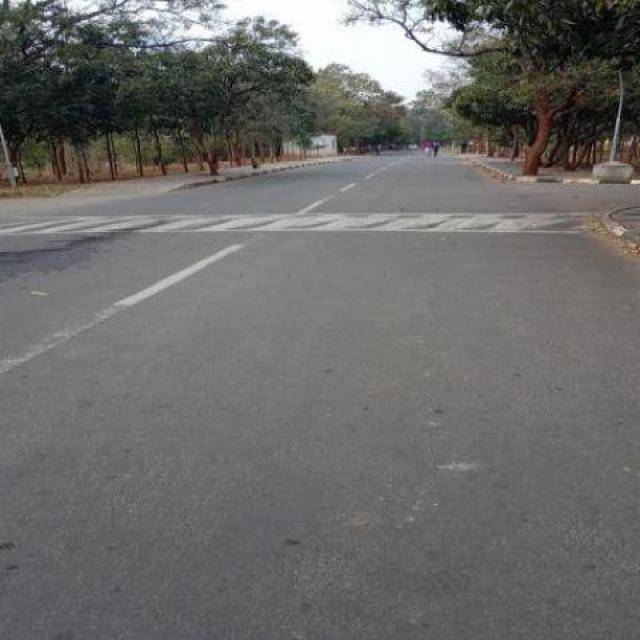Speed Bump: (1, 210, 614, 234)
